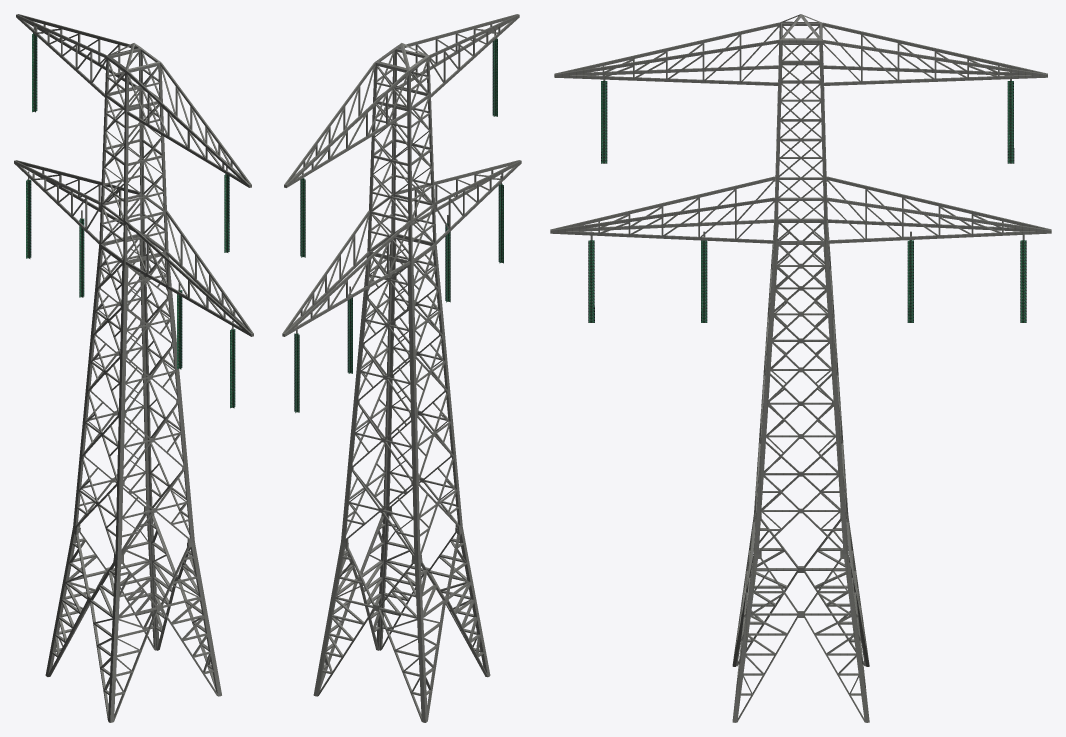
The model's file is HighVoltage.glb.
3 views of the same model, side by side, from view 1: azimuth 30°, elevation 25°; view 2: azimuth 150°, elevation 25°; view 3: azimuth 270°, elevation 25° (orthographic). The views are drawn at different scales.
Parts seen in each view (by area): view 1: pole_3dmesh; view 2: pole_3dmesh; view 3: pole_3dmesh.
Part boxes in pixels (x1,y1,x2,y2): pole_3dmesh: (14,14,253,722); pole_3dmesh: (282,14,521,722); pole_3dmesh: (550,14,1051,722).
Bounding box in the file's own units: 8.72 × 47.74 × 31.91.
2 materials, 2 textured.
